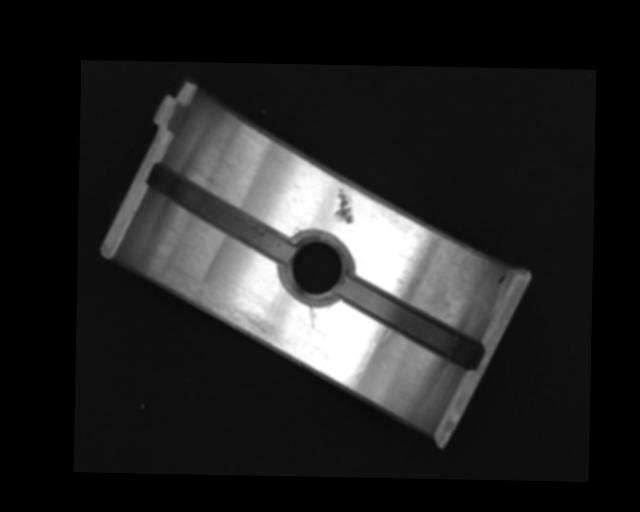blot: (496, 270, 510, 284)
bruise: (335, 188, 355, 224)
gap: (147, 165, 296, 263), (338, 278, 482, 368)
hole: (279, 232, 352, 302)
nick: (342, 338, 377, 386), (308, 305, 317, 329)
scratch: (154, 268, 285, 348)
